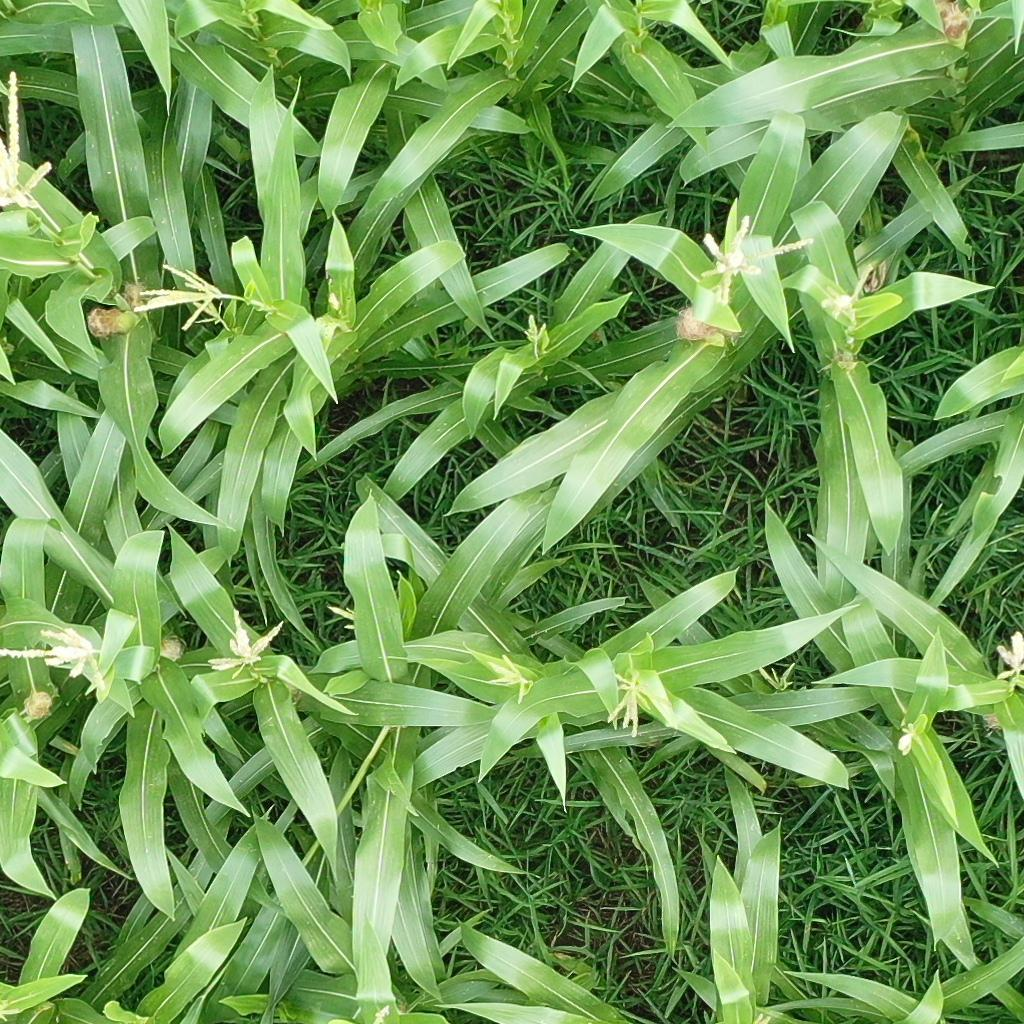Tassel: (698, 215, 816, 308), (132, 265, 249, 329), (1, 73, 54, 213), (1, 626, 110, 692), (204, 609, 289, 681), (602, 658, 654, 740), (820, 263, 875, 328), (992, 630, 1024, 693), (485, 653, 527, 700), (756, 663, 797, 692), (194, 300, 232, 328), (325, 603, 358, 632), (894, 720, 919, 754), (523, 312, 548, 340), (1, 998, 18, 1023), (325, 292, 342, 311), (750, 1012, 773, 1024)
